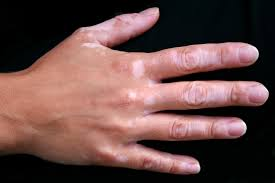vitiligo: (63, 10, 242, 178)
